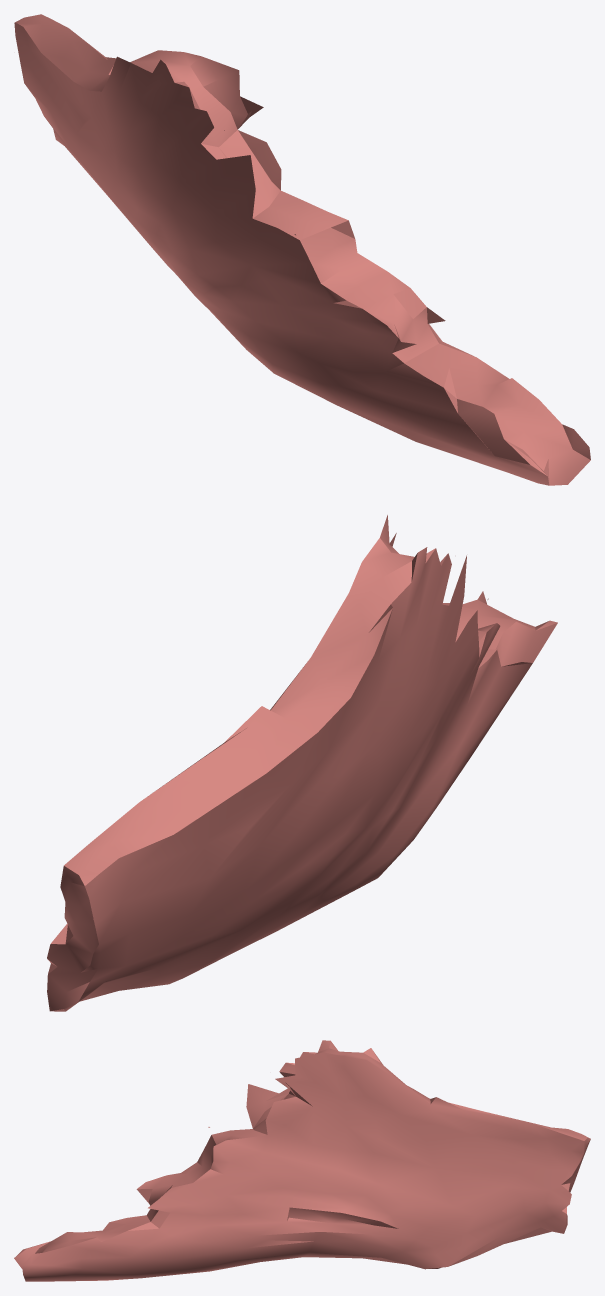
Rendered from fma48959_mm1288m.glb.
3 renders of one model, top to bottom at view 1: azimuth 30°, elevation 25°; view 2: azimuth 150°, elevation 25°; view 3: azimuth 270°, elevation 25°, orthographic. The views are drawn at different scales.
Visible parts, largest first — view 1: FMA48959_MM1288M; view 2: FMA48959_MM1288M; view 3: FMA48959_MM1288M.
Boxes of the visible parts, x1,y1,x2,y2 form: FMA48959_MM1288M: (14, 14, 590, 485); FMA48959_MM1288M: (47, 515, 557, 1011); FMA48959_MM1288M: (14, 1040, 590, 1281).
Bounding box in the file's own units: 0.0112 × 0.0161 × 0.0428.
